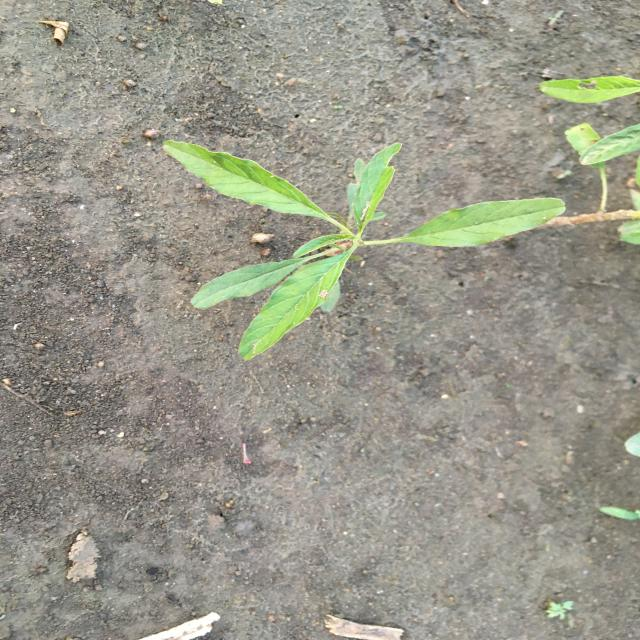Waterhemp: (161, 138, 567, 364), (532, 76, 638, 250)
